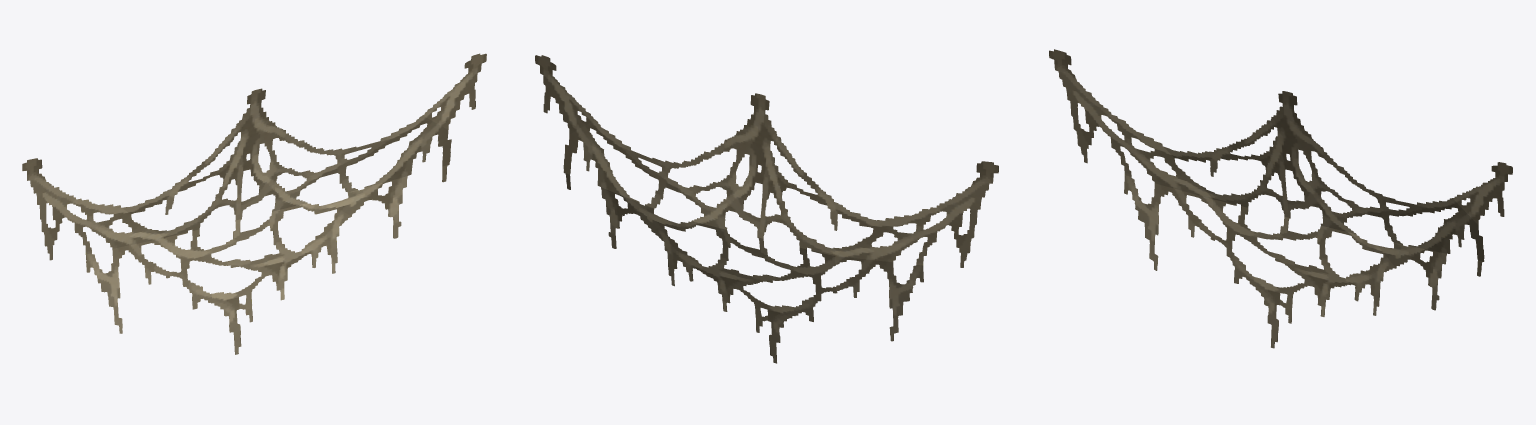
Rendered from SM_SP03_WebDrape.fbx.
The picture shows the model from 3 angles, left to right: view 1: azimuth 30°, elevation 25°; view 2: azimuth 150°, elevation 25°; view 3: azimuth 330°, elevation 25°; orthographic projection.
Visible parts, largest first — view 1: SP03_Web; view 2: SP03_Web; view 3: SP03_Web.
Part boxes in pixels (left/top/right/bottom): SP03_Web: left=22, top=53, right=486, bottom=354; SP03_Web: left=535, top=55, right=998, bottom=363; SP03_Web: left=1049, top=49, right=1512, bottom=348.
Size of the model in its own units: 1.8 by 1.02 by 0.08.
